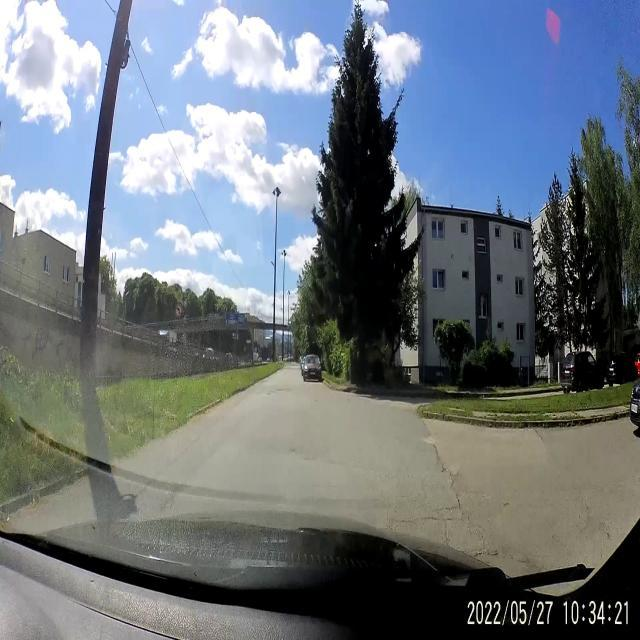Pothole: (427, 432, 448, 478), (266, 383, 294, 401), (450, 469, 462, 487), (287, 445, 299, 456), (502, 499, 512, 510)
